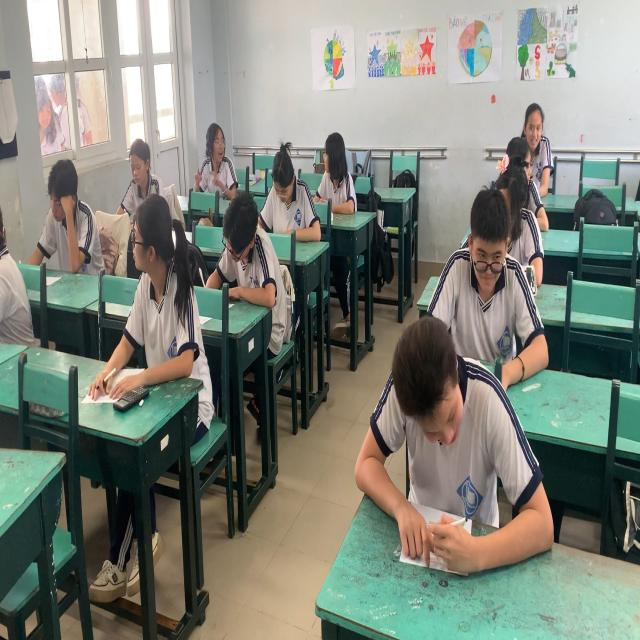cheating: (123, 196, 200, 378), (312, 130, 359, 220), (192, 118, 239, 196)
not_cheating: (365, 323, 528, 554), (437, 185, 534, 385), (38, 160, 100, 281), (217, 188, 276, 309), (268, 139, 318, 240), (507, 102, 553, 198), (118, 139, 163, 192)
